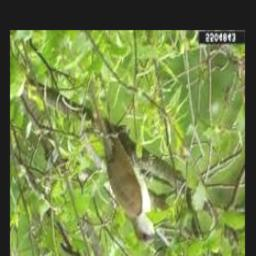Cuckoo: (90, 83, 157, 244)
